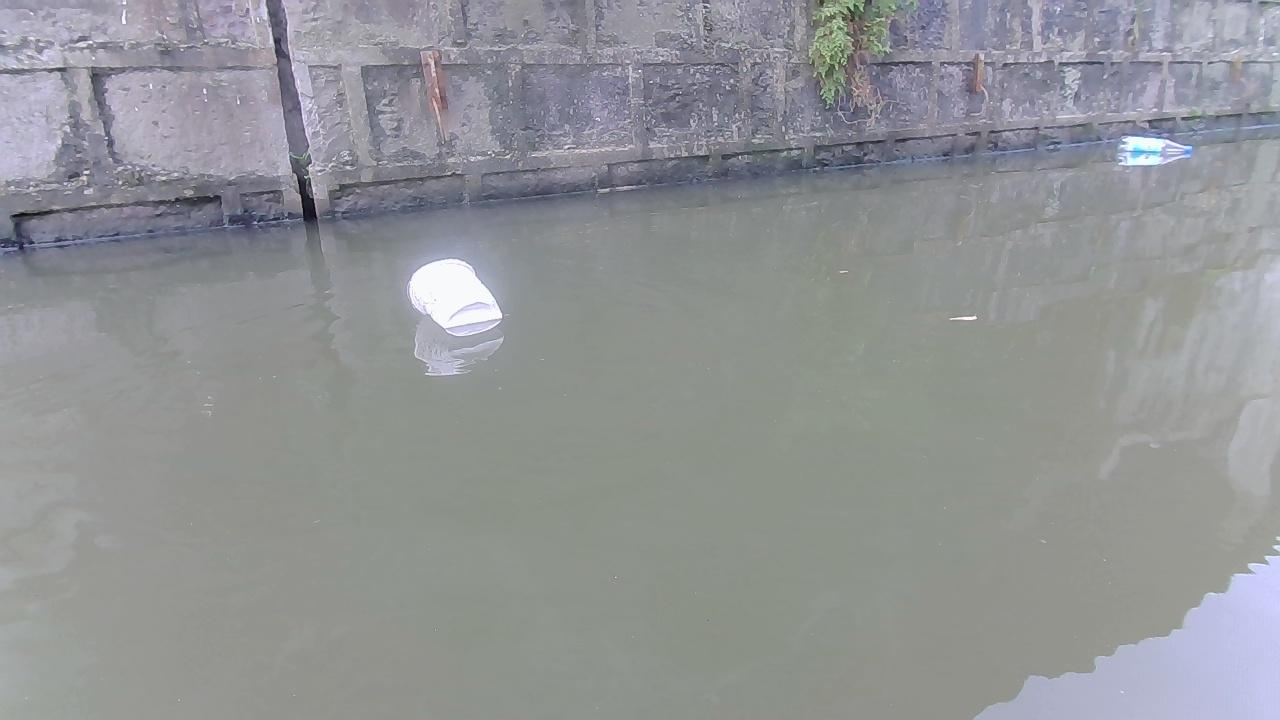bottle: (404, 257, 503, 332), (1116, 131, 1198, 156)
